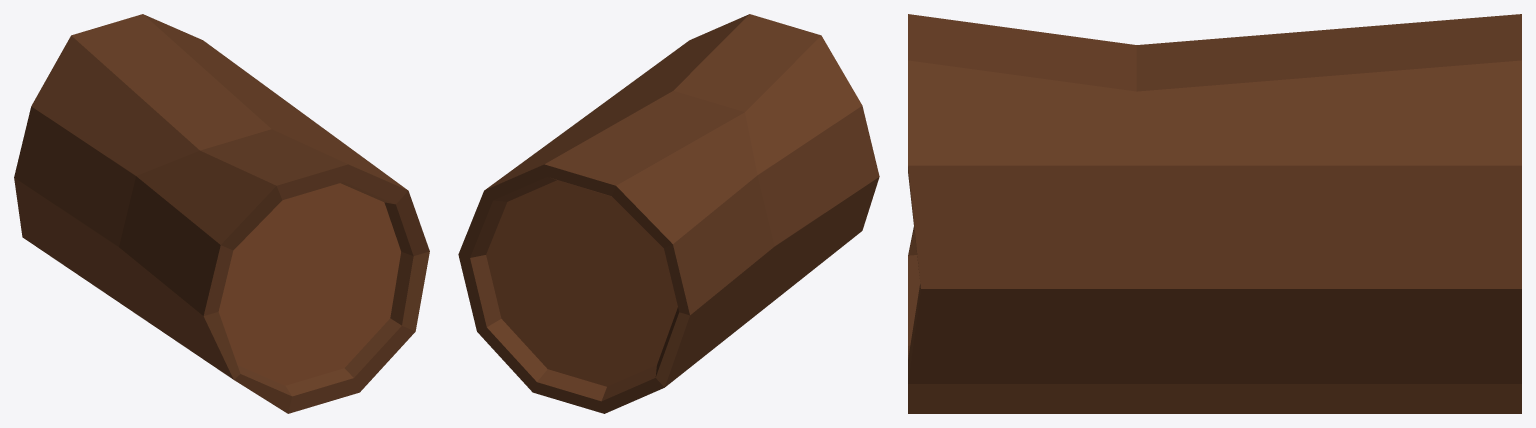
File: woodlog03.obj
3 renders of one model, left to right at view 1: azimuth 30°, elevation 25°; view 2: azimuth 150°, elevation 25°; view 3: azimuth 270°, elevation 25°, orthographic. The views are drawn at different scales.
Visible parts, largest first — view 1: Cylinder.001; view 2: Cylinder.001; view 3: Cylinder.001.
Part boxes in pixels (x1,y1,x2,y2): Cylinder.001: [14, 14, 429, 413]; Cylinder.001: [458, 14, 879, 413]; Cylinder.001: [908, 14, 1521, 413].
Size of the model in its own units: 0.3063 by 0.308 by 0.4883.
